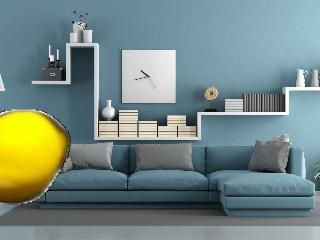lemon: (2, 113, 70, 204)
